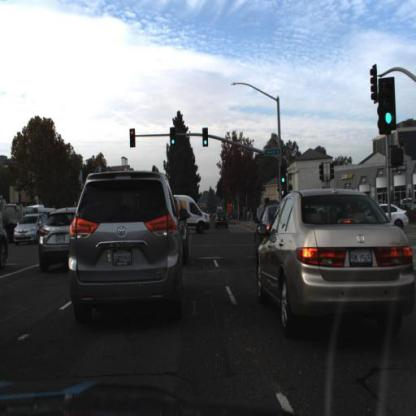car: (255, 186, 410, 332), (67, 162, 189, 330), (38, 205, 74, 275), (175, 195, 213, 238), (12, 212, 46, 247), (376, 201, 410, 233), (252, 203, 272, 252), (376, 205, 410, 230), (200, 208, 204, 221)
trafficLight: (381, 79, 402, 139), (200, 124, 212, 154), (168, 125, 178, 149), (128, 131, 137, 154), (170, 131, 178, 154), (280, 170, 288, 193), (202, 129, 210, 148)
truck: (2, 201, 41, 244)
